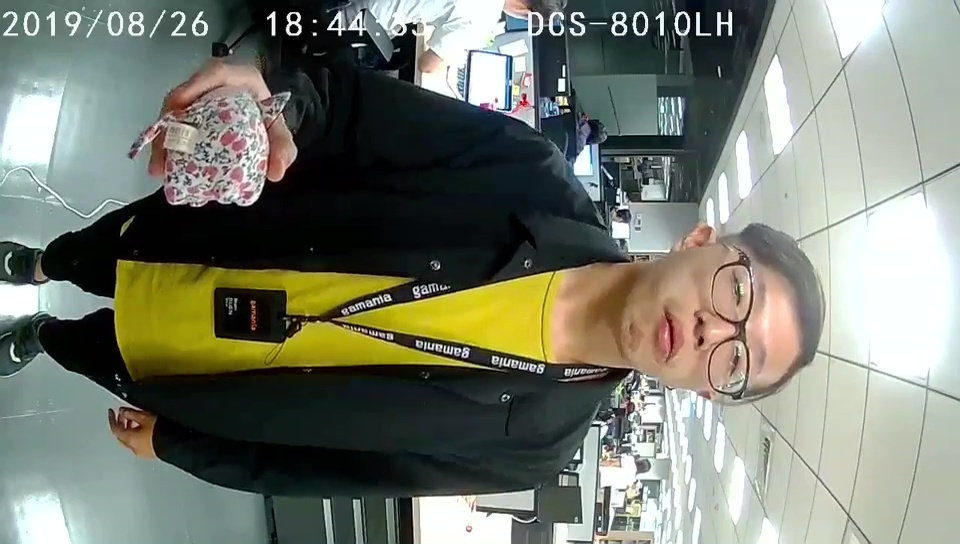pig: (163, 88, 292, 213)
